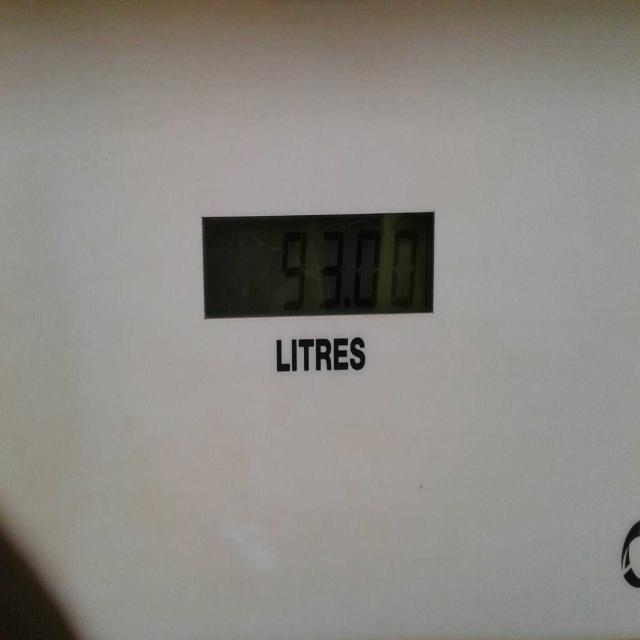.: (340, 288, 354, 313)
0: (385, 218, 423, 317), (350, 225, 382, 308)
3: (311, 226, 346, 318)
